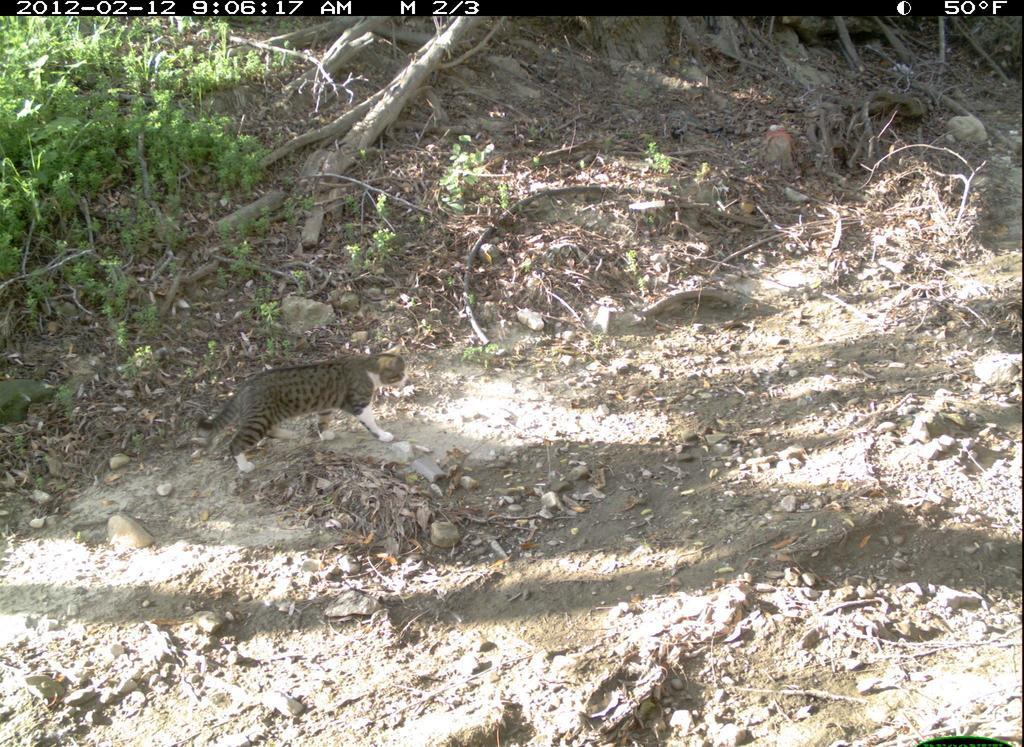cat: (189, 346, 431, 479)
